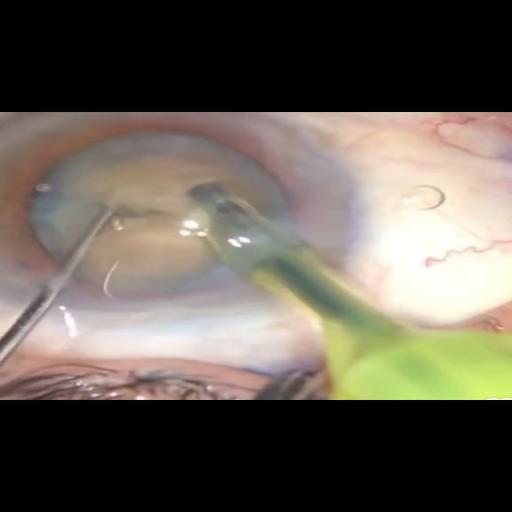catarata: (36, 138, 281, 289)
cornea: (0, 105, 419, 324)
pupil: (0, 118, 321, 299)
